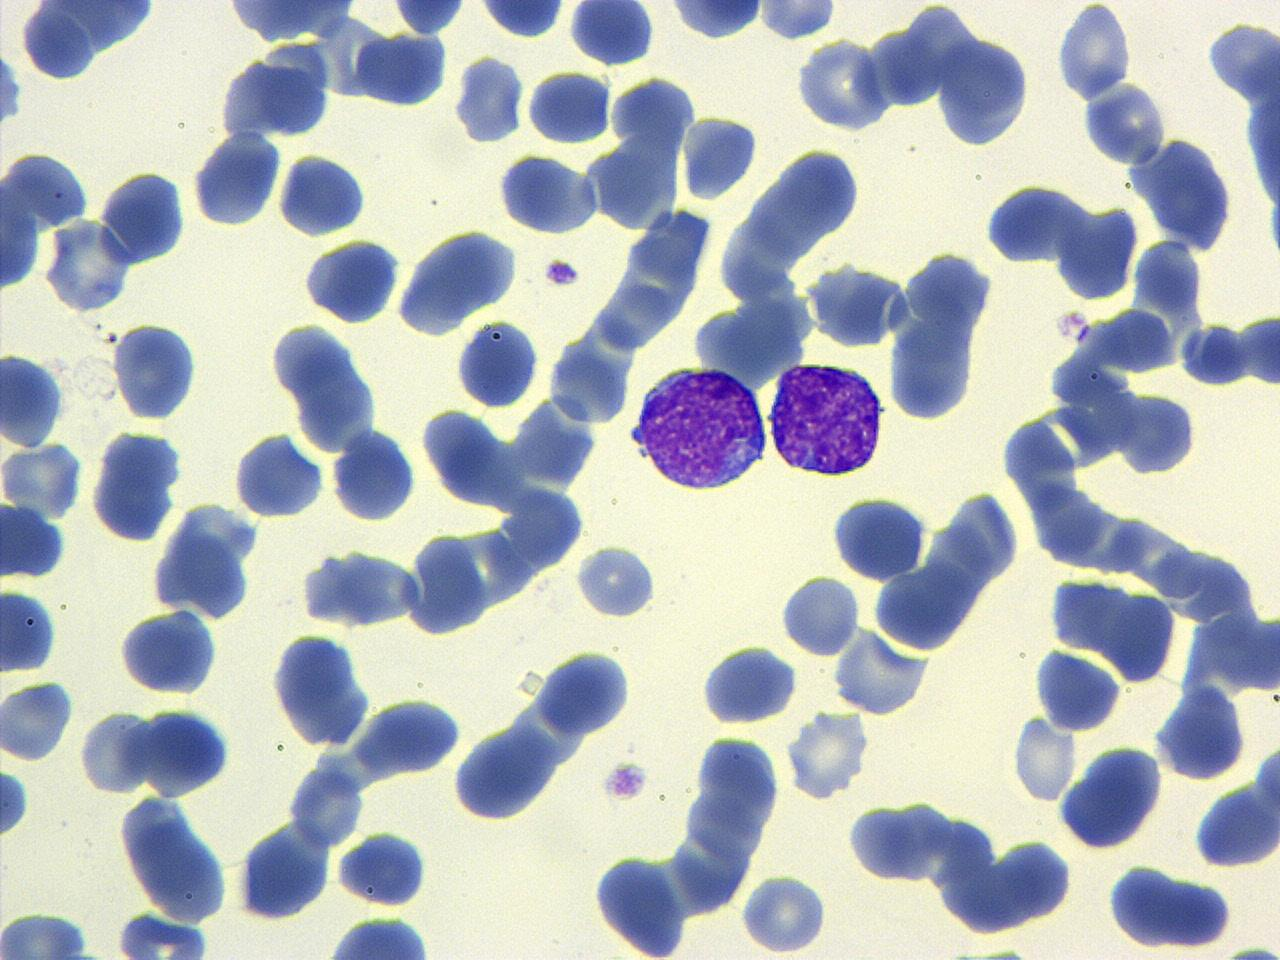Platelets: (738, 871, 830, 956), (1080, 77, 1166, 166), (573, 542, 661, 620), (1008, 712, 1078, 805), (600, 758, 650, 804), (0, 50, 23, 127), (960, 941, 1030, 960), (544, 256, 582, 289), (1263, 194, 1280, 264), (1223, 941, 1279, 960)
RBC: (1105, 867, 1235, 952), (188, 131, 284, 229), (494, 150, 602, 237), (97, 165, 190, 266), (826, 490, 928, 582), (794, 35, 890, 132), (1054, 201, 1140, 303), (352, 23, 450, 111), (739, 868, 830, 956), (275, 152, 370, 236), (1081, 80, 1171, 167), (867, 16, 943, 115), (778, 573, 859, 660), (572, 542, 658, 622), (0, 676, 79, 763), (525, 69, 612, 146), (78, 707, 153, 796), (1009, 711, 1079, 804), (844, 802, 922, 884), (108, 910, 222, 958), (0, 585, 59, 674), (662, 1, 766, 42), (473, 0, 567, 42), (387, 0, 470, 36)
WBC: (884, 238, 1000, 422), (626, 362, 772, 493), (116, 793, 235, 928), (763, 358, 889, 480), (395, 219, 522, 336), (151, 497, 270, 620), (268, 627, 377, 749), (7, 1, 164, 84), (1054, 740, 1168, 852), (1103, 862, 1237, 954), (933, 31, 1035, 150), (87, 426, 187, 546), (590, 847, 692, 959), (0, 443, 80, 583), (233, 817, 334, 926), (448, 723, 558, 823), (1188, 758, 1280, 873), (116, 604, 225, 700), (109, 318, 204, 422), (534, 644, 636, 738), (301, 232, 404, 325), (495, 149, 602, 237), (138, 704, 236, 800), (190, 128, 283, 229), (351, 696, 468, 776), (229, 426, 328, 519), (828, 490, 926, 583), (796, 34, 888, 133), (330, 426, 420, 525), (698, 640, 798, 726), (454, 314, 543, 410), (352, 26, 452, 111), (332, 828, 434, 910), (275, 151, 372, 236), (1055, 2, 1135, 101), (680, 109, 758, 204), (779, 570, 860, 660), (526, 66, 612, 148), (573, 542, 661, 622), (1, 348, 69, 451), (452, 54, 527, 146), (0, 674, 76, 764), (216, 0, 367, 43), (310, 912, 450, 958), (845, 802, 921, 885), (565, 0, 657, 67), (0, 584, 59, 676), (0, 908, 106, 958), (109, 914, 224, 960), (660, 0, 770, 41), (748, 0, 843, 41), (473, 0, 568, 41), (0, 762, 32, 844)
